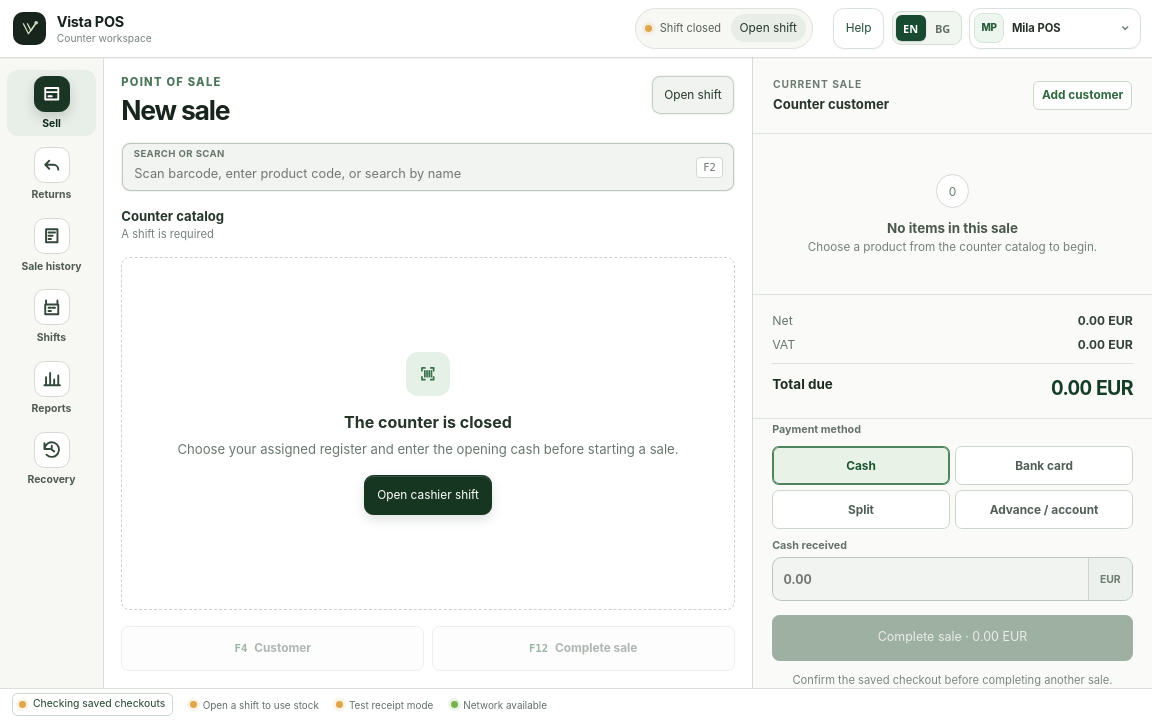
Test: POS application › clears the browser session when the cashier signs out
The image size is (1152, 720).
Check: the heading "New sale" is shown, box [121,94,229,126]
Click the button with aria-label "Open account menu": [1055, 28] box [969,8,1141,49]
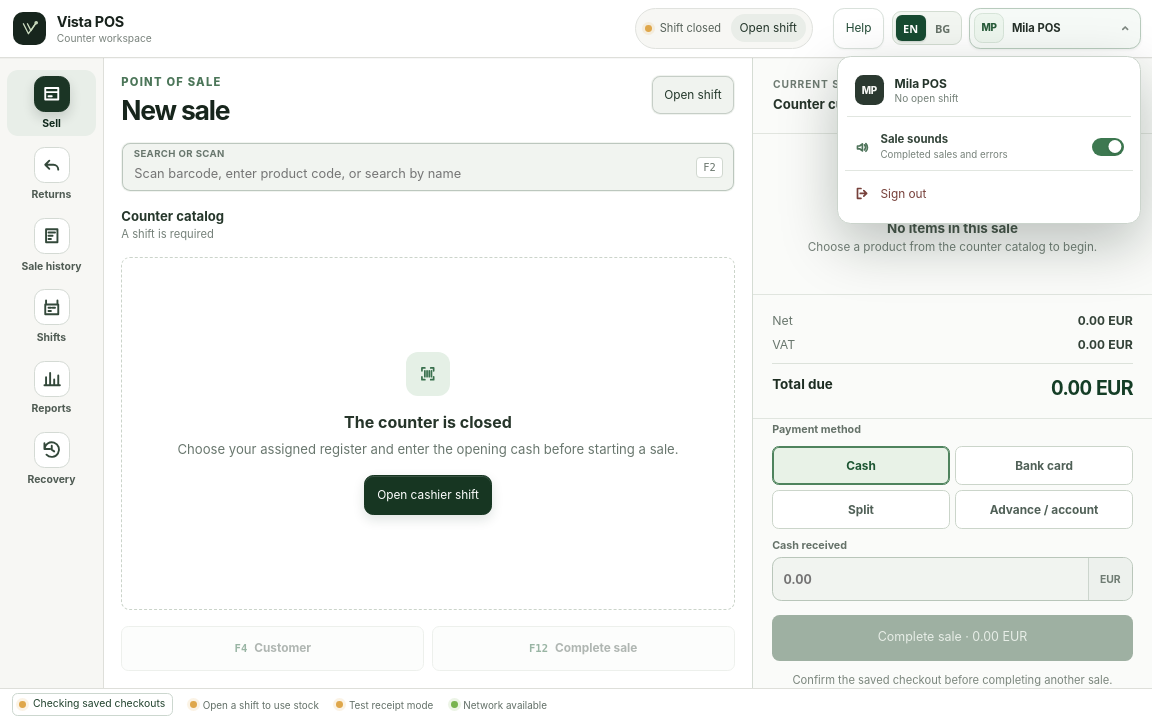
Click the button "Sign out": [903, 194] box [844,170,1133,217]
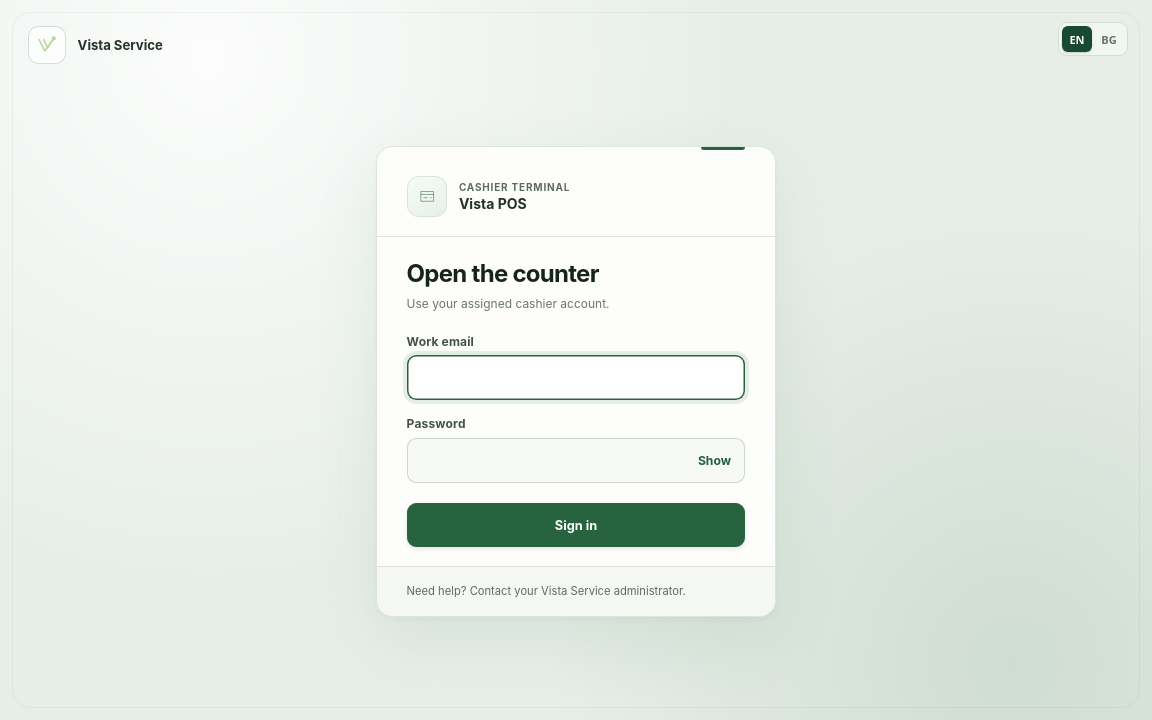
Check: the heading "Open the counter" is shown, box [407,259,599,288]
